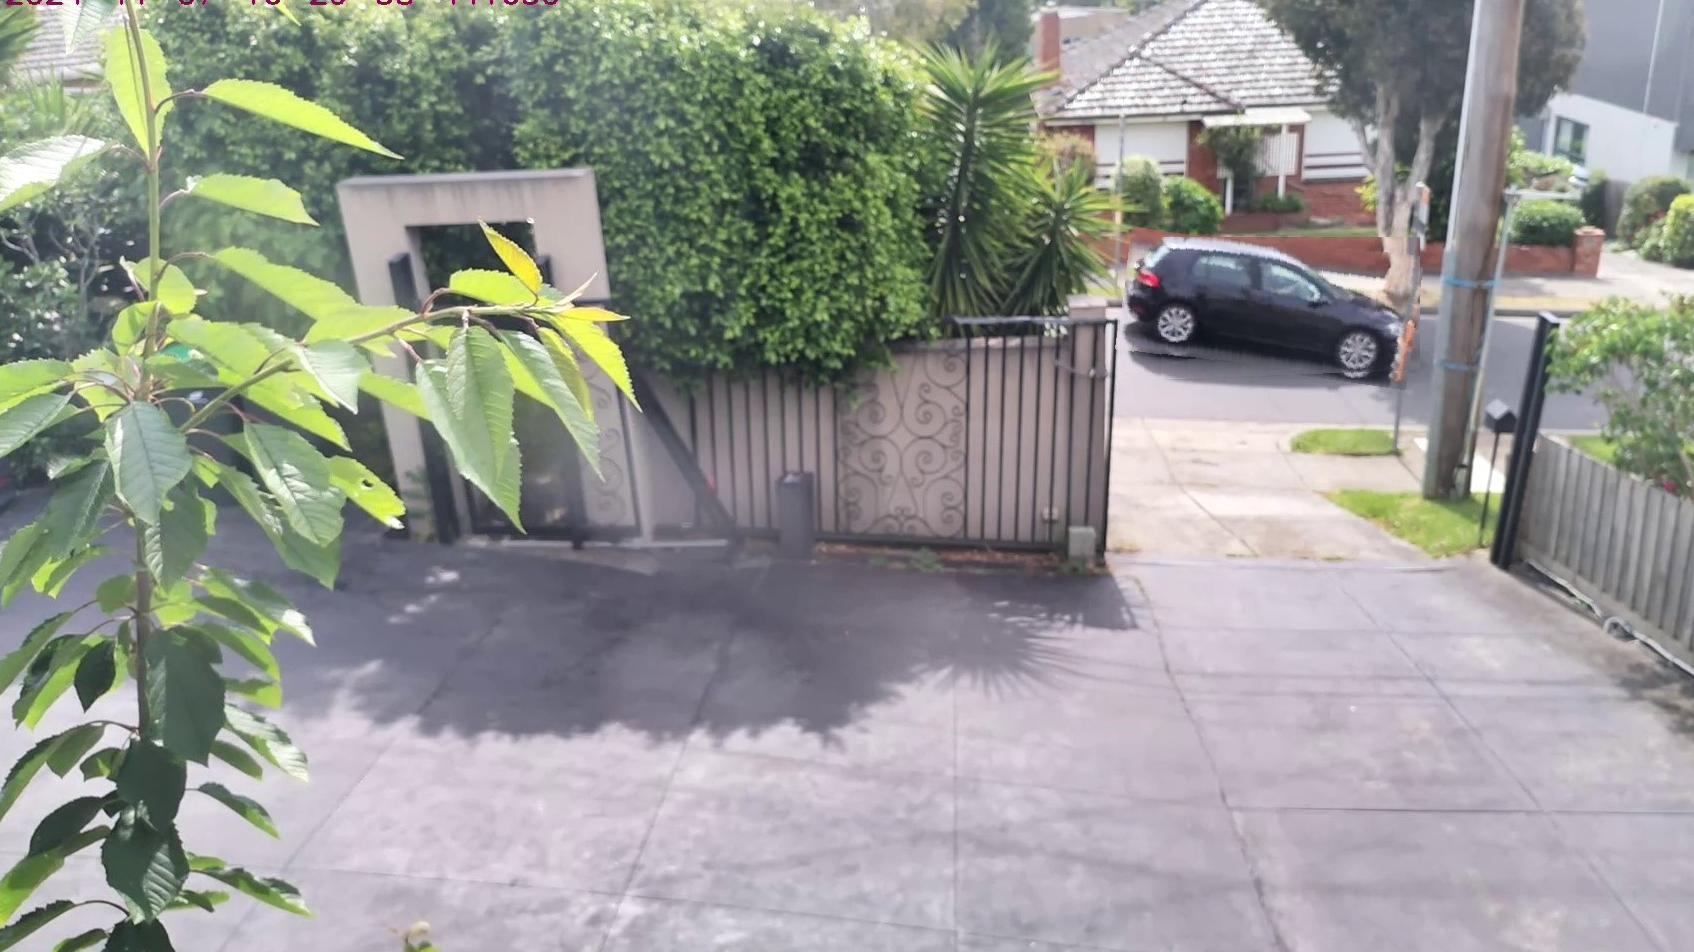VEHICLE TYPE 1: (1119, 237, 1421, 382)
wheel: (1155, 317, 1200, 362), (1340, 327, 1385, 369)
